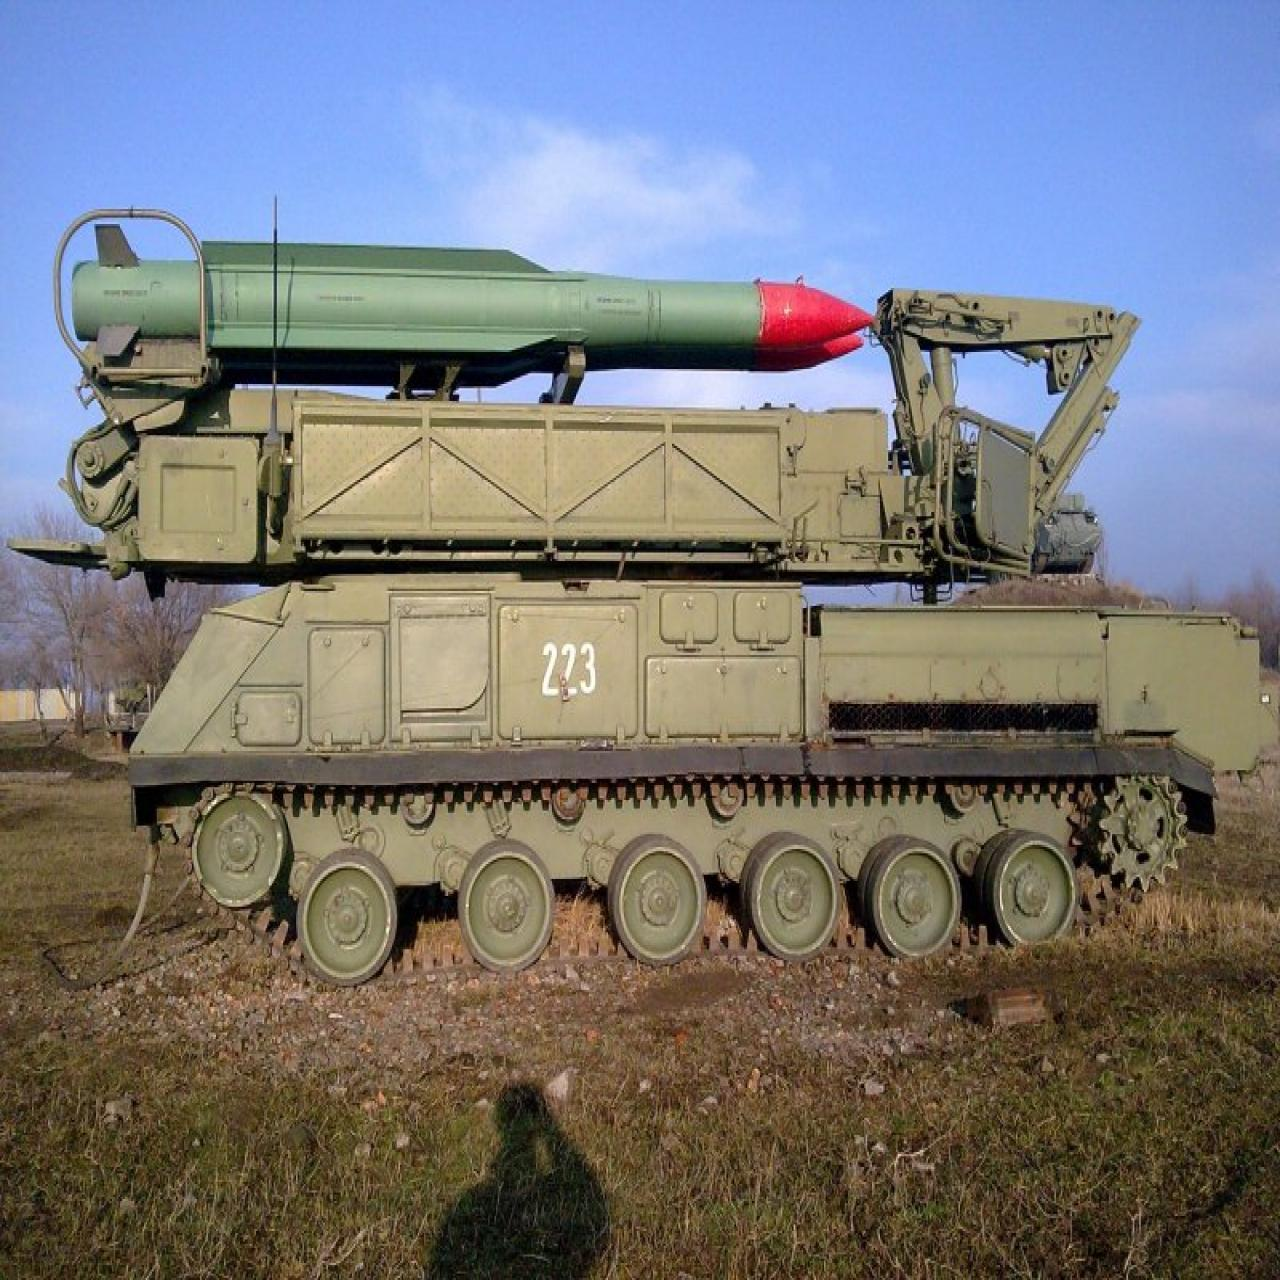MIL_Veh: (60, 206, 1268, 971)
